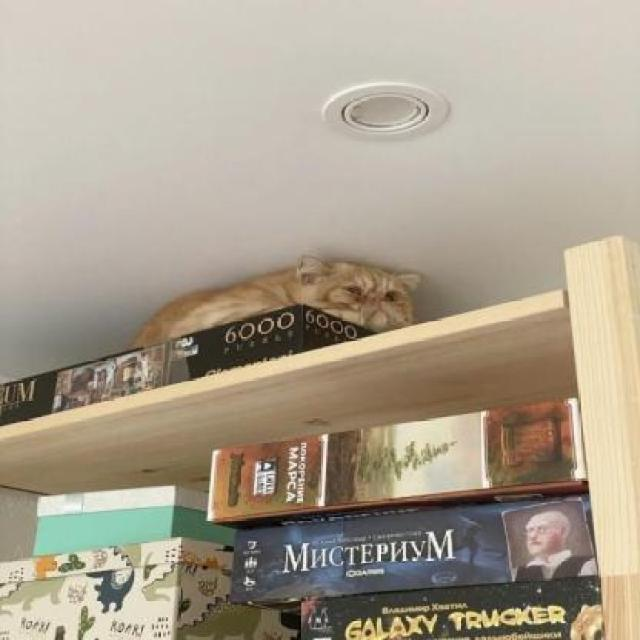cat: (136, 268, 439, 338)
